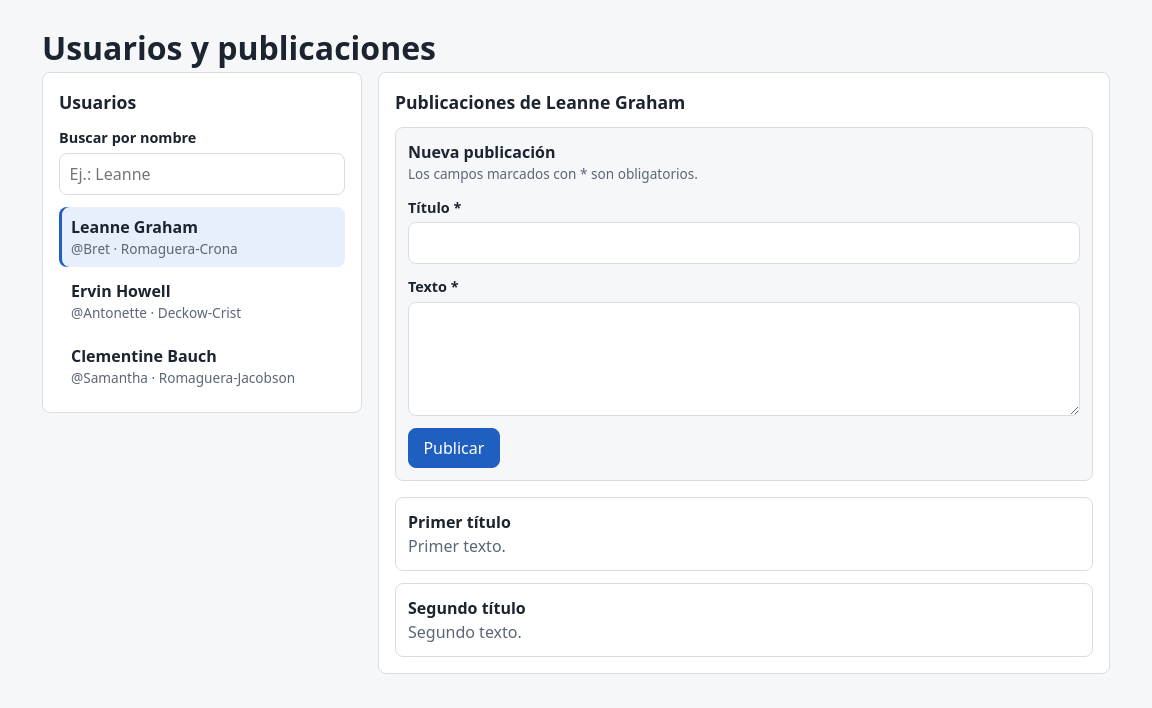
Test: Formulario de nueva publicación › permite crear dos publicaciones seguidas aunque la API repita el id
Type "Primera nueva" into the field labelled "Título".
click(744, 243); type("Primera nueva")  # box [408,222,1080,264]
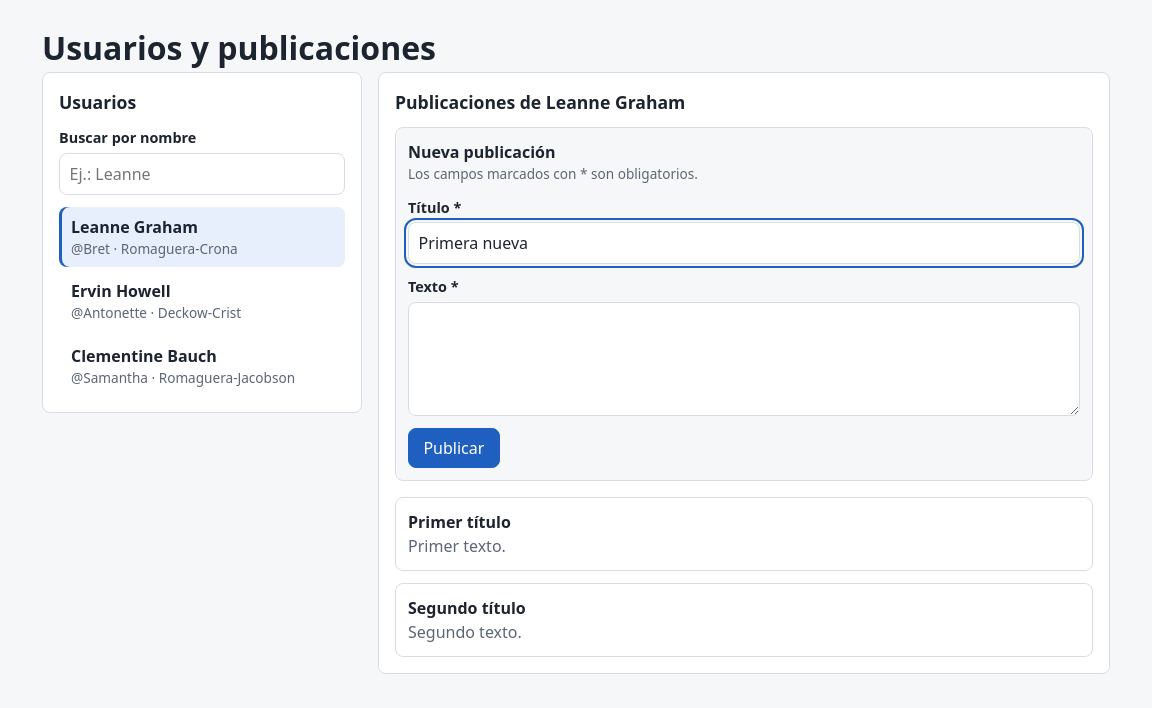
Type "Texto" into the text box labelled "Texto".
click(744, 359); type("Texto")  # box [408,302,1080,416]
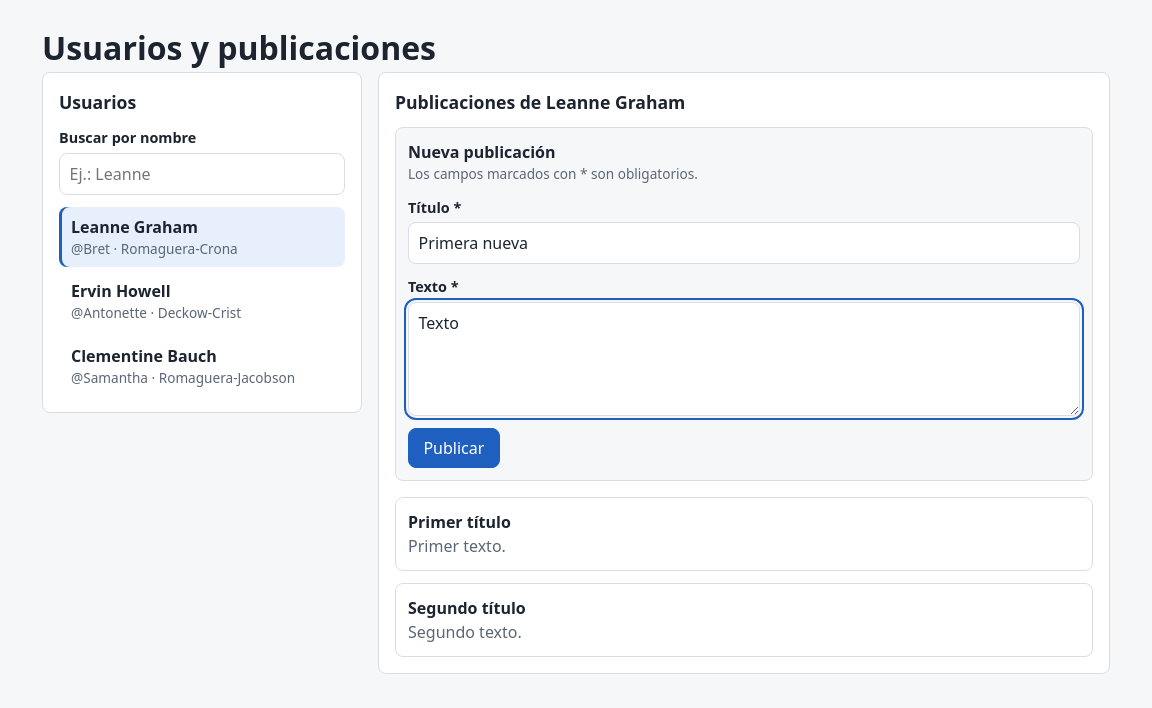
Click the button "Publicar".
click(454, 448)  # box [408,428,500,468]
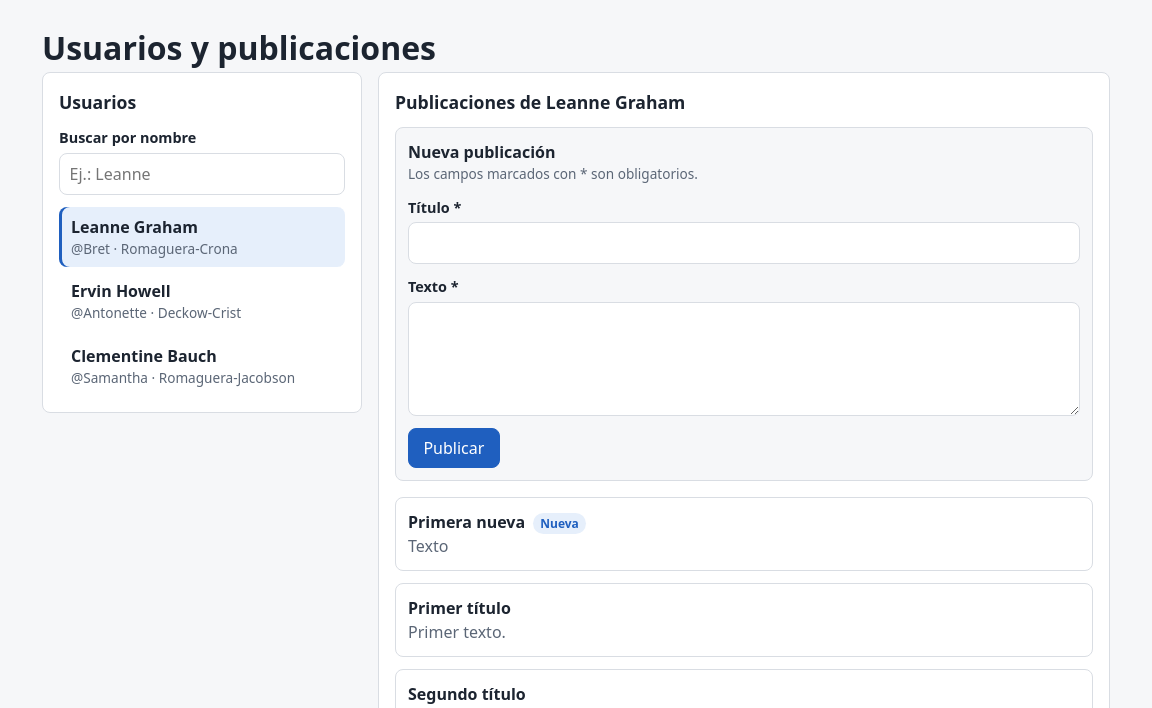
Result: the heading "Primera nueva" is shown at [408,511,525,533]
Type "Segunda nueva" into the field labelled "Título".
click(744, 243); type("Segunda nueva")  # box [408,222,1080,264]
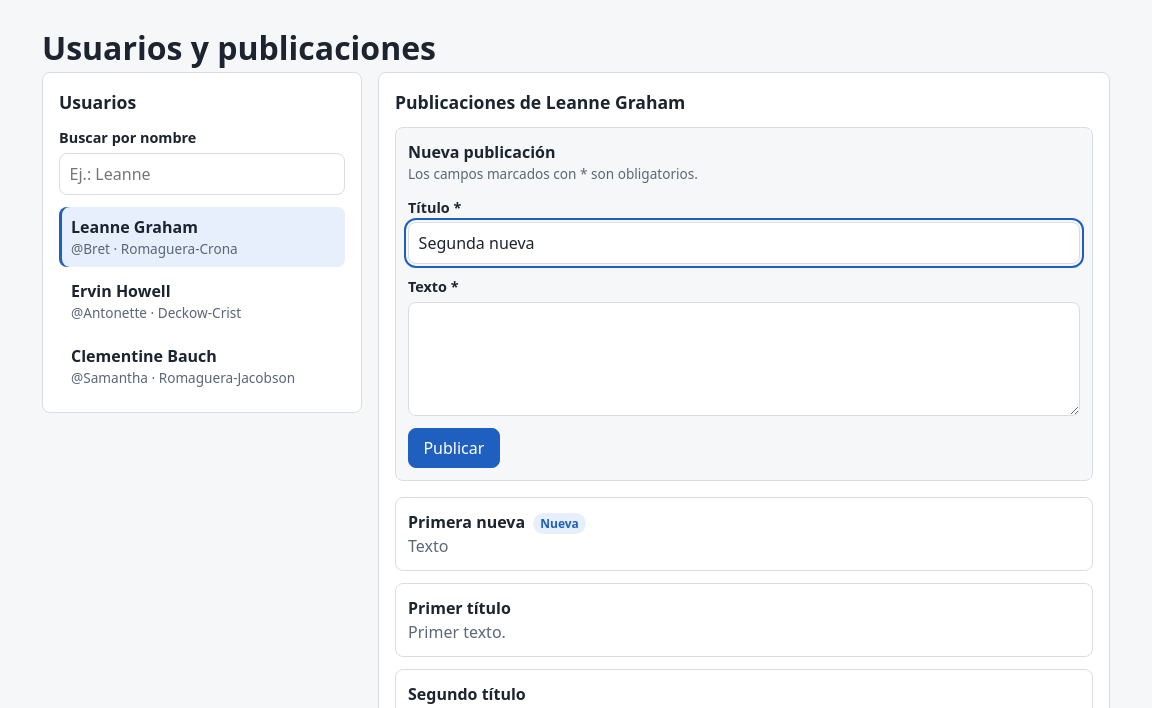
Type "Texto" into the text box labelled "Texto".
click(744, 359); type("Texto")  # box [408,302,1080,416]
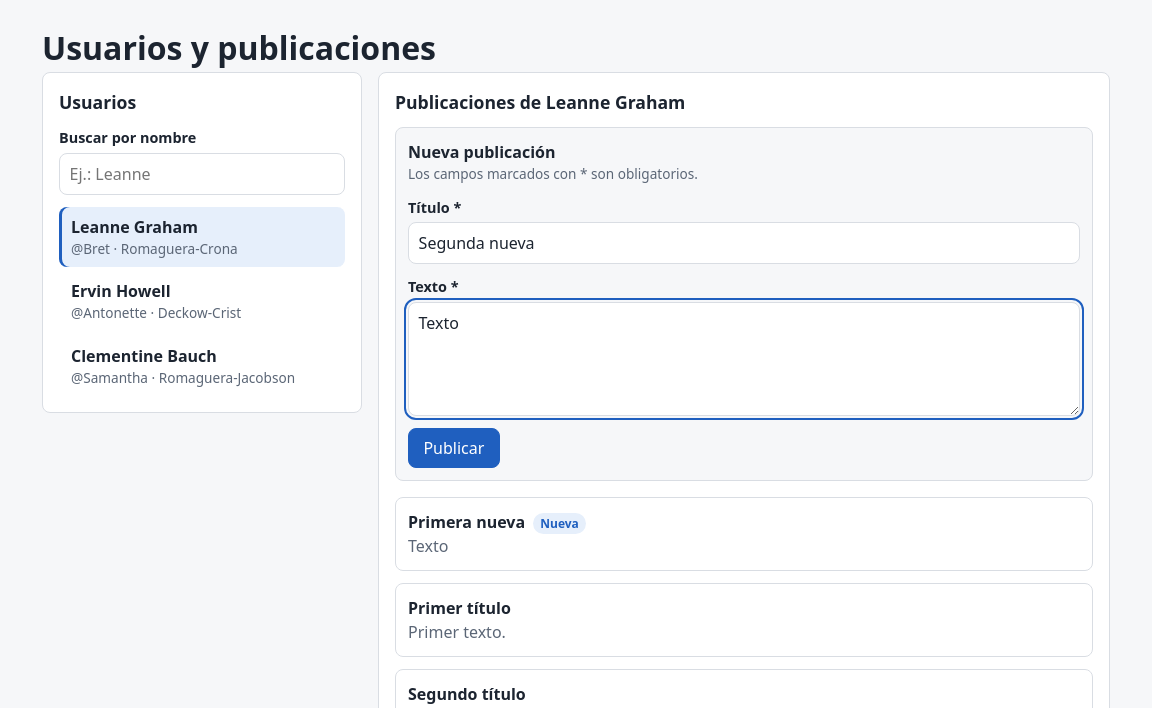
Click the button "Publicar".
click(454, 448)  # box [408,428,500,468]
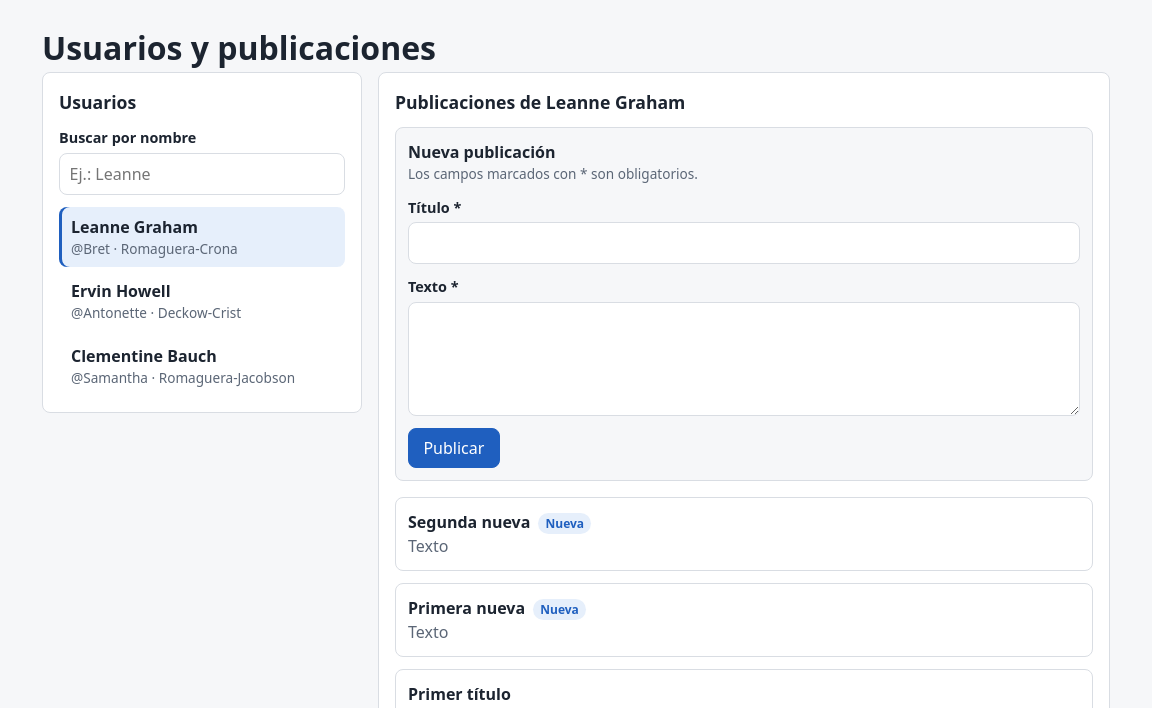
Result: the 5th list item shows "Primera nueva" at [408,597,525,619]
Result: the 4th list item shows "Segunda nueva" at [408,511,530,533]
